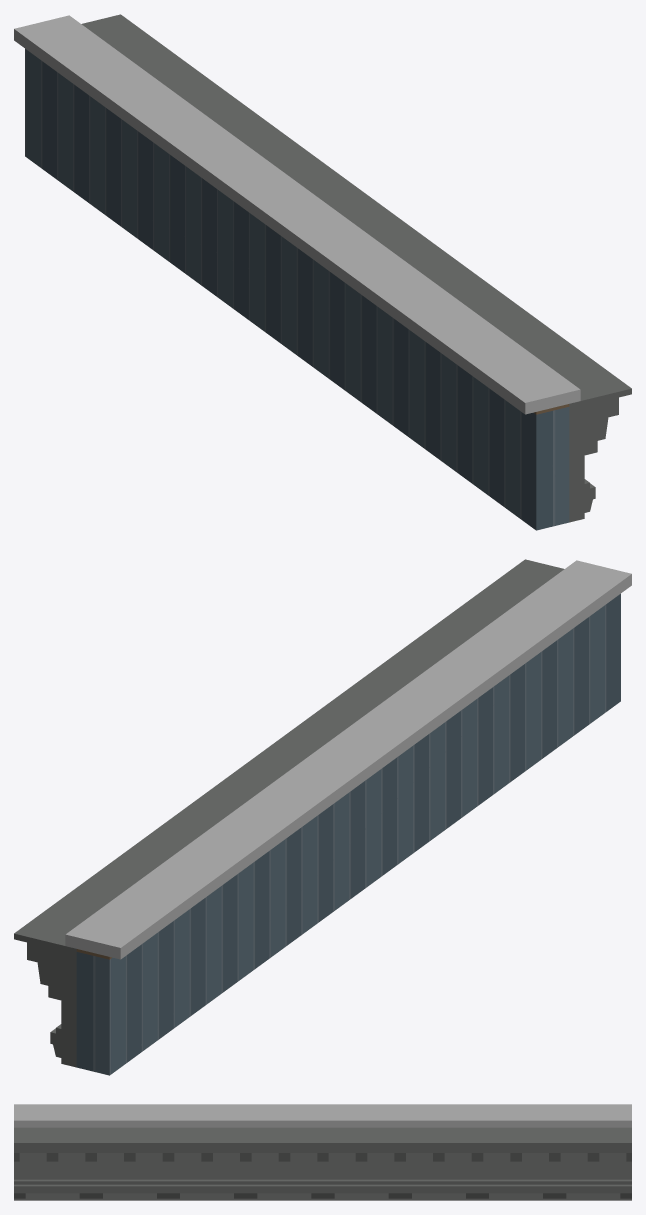
The model's file is SM_cornice_01.glb.
3 renders of one model, top to bottom at view 1: azimuth 30°, elevation 25°; view 2: azimuth 150°, elevation 25°; view 3: azimuth 270°, elevation 25°, orthographic. The views are drawn at different scales.
Parts seen in each view (by area): view 1: SM_cornice_01; view 2: SM_cornice_01; view 3: SM_cornice_01.
Boxes of the visible parts, x1=… form: SM_cornice_01: x1=14, y1=14, x2=631, y2=530; SM_cornice_01: x1=14, y1=559, x2=631, y2=1075; SM_cornice_01: x1=14, y1=1104, x2=631, y2=1200.
Size of the model in its own units: 0.965 by 1.13 by 8.
2 materials, 2 textured.
